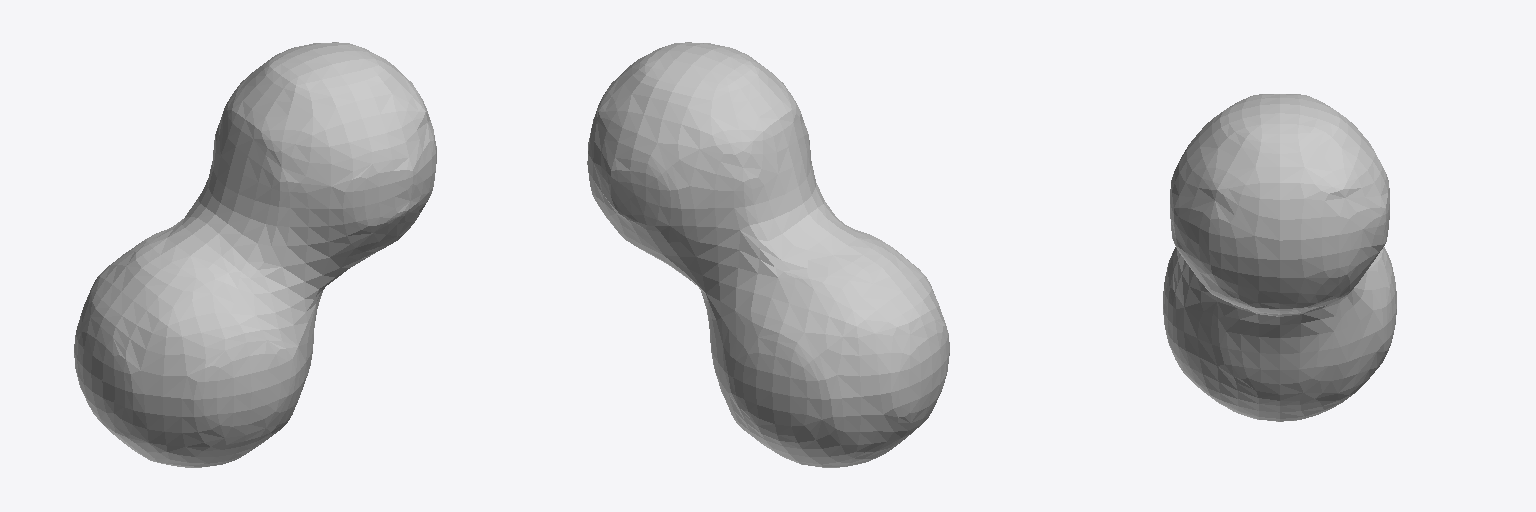
The model's file is Dinoflagellates3.obj.
3 renders of one model, left to right at view 1: azimuth 30°, elevation 25°; view 2: azimuth 150°, elevation 25°; view 3: azimuth 270°, elevation 25°, orthographic.
Parts seen in each view (by area): view 1: Dinoflagallates3; view 2: Dinoflagallates3; view 3: Dinoflagallates3.
Boxes of the visible parts, box(x1,y1,x2,y2) form: Dinoflagallates3: box(74, 42, 436, 467); Dinoflagallates3: box(587, 42, 949, 467); Dinoflagallates3: box(1163, 94, 1396, 421).
Bounding box in the file's own units: 147 × 157 × 90.91.